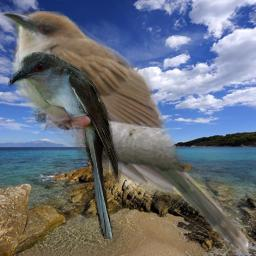Cuckoo: (1, 11, 253, 255), (8, 52, 122, 239)
